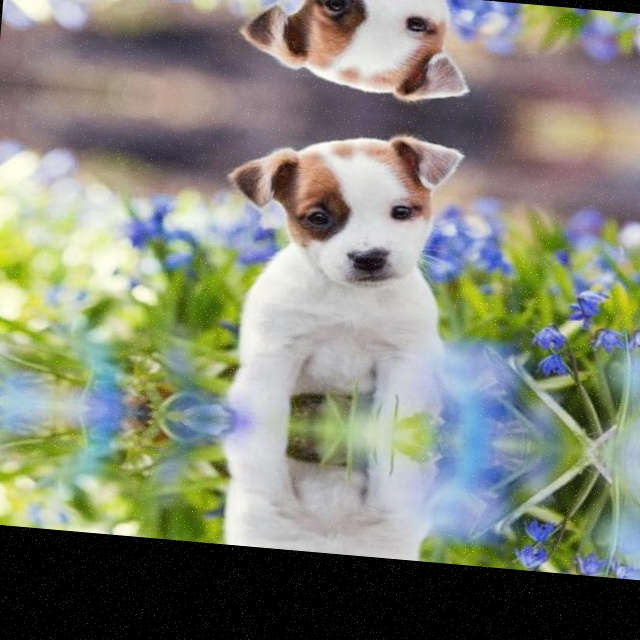dog: (214, 114, 476, 295), (230, 0, 487, 111)
